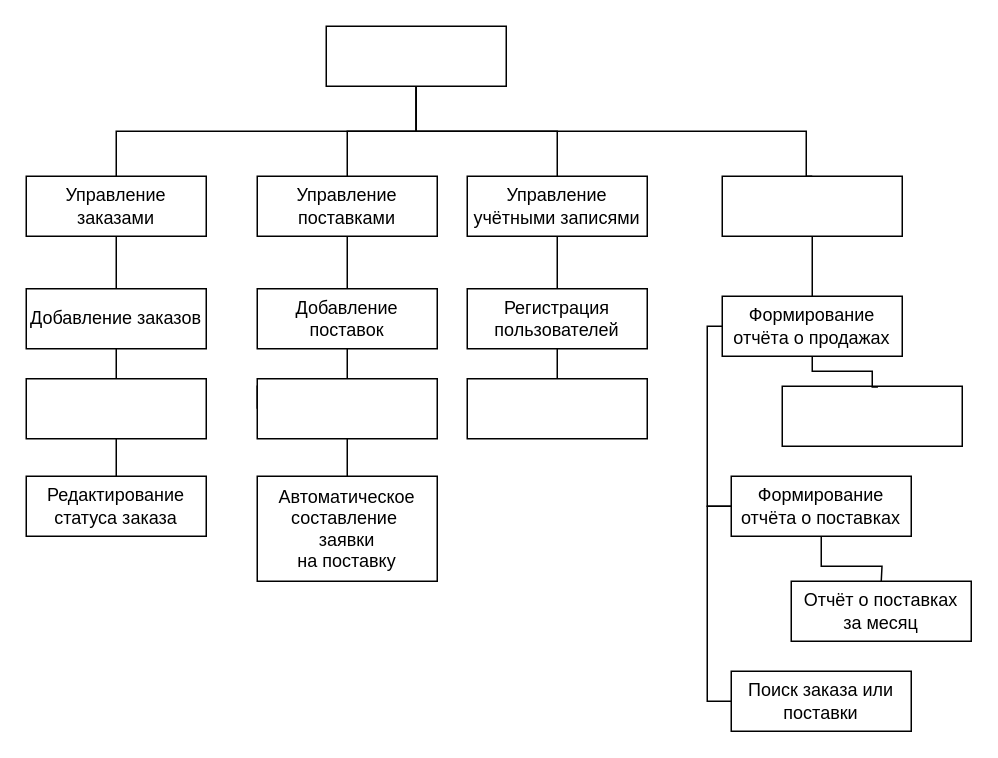
Image size: 998x758. Some labels were removed from this diagram. The shapes that lost their labels are listed below. From the top down, each one's box as (x1, y1, x2, y2) in pixels, then its label:
(325, 25, 506, 86): Главное меню
(721, 175, 902, 236): Отчётность
(25, 377, 206, 439): Редактирование заказов
(256, 377, 437, 439): Редактирование поставок
(466, 377, 647, 439): Авторизация пользователей
(781, 385, 962, 446): Отчёт о продажах за месяц
